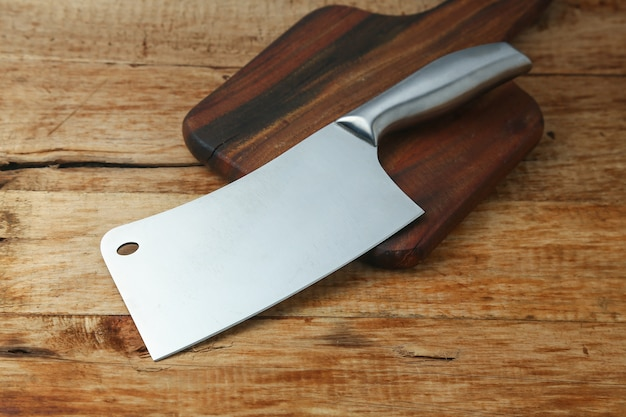knife: (95, 39, 534, 365)
